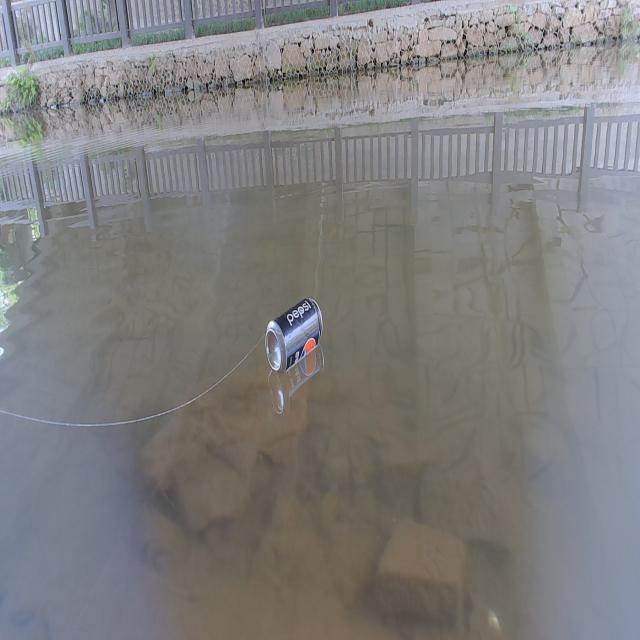Can: (264, 292, 324, 372)
